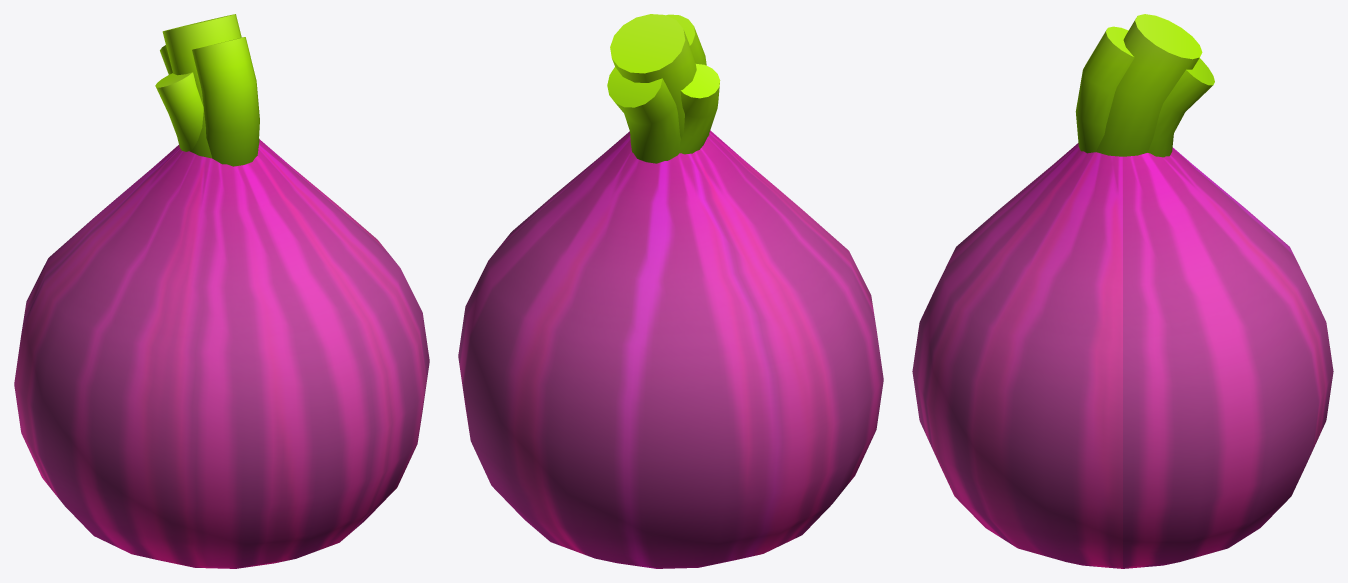
Rendered from Onion_01.fbx.
3 views of the same model, side by side, from view 1: azimuth 30°, elevation 25°; view 2: azimuth 150°, elevation 25°; view 3: azimuth 270°, elevation 25° (orthographic). The views are drawn at different scales.
Parts seen in each view (by area): view 1: Onion_01; view 2: Onion_01; view 3: Onion_01.
Part boxes in pixels (x1,y1,x2,y2): Onion_01: (14, 14, 429, 568); Onion_01: (458, 14, 883, 568); Onion_01: (912, 14, 1333, 568).
Bounding box in the file's own units: 32.97 × 45.16 × 32.97.
